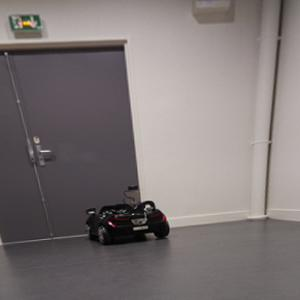big: (84, 200, 171, 247)
